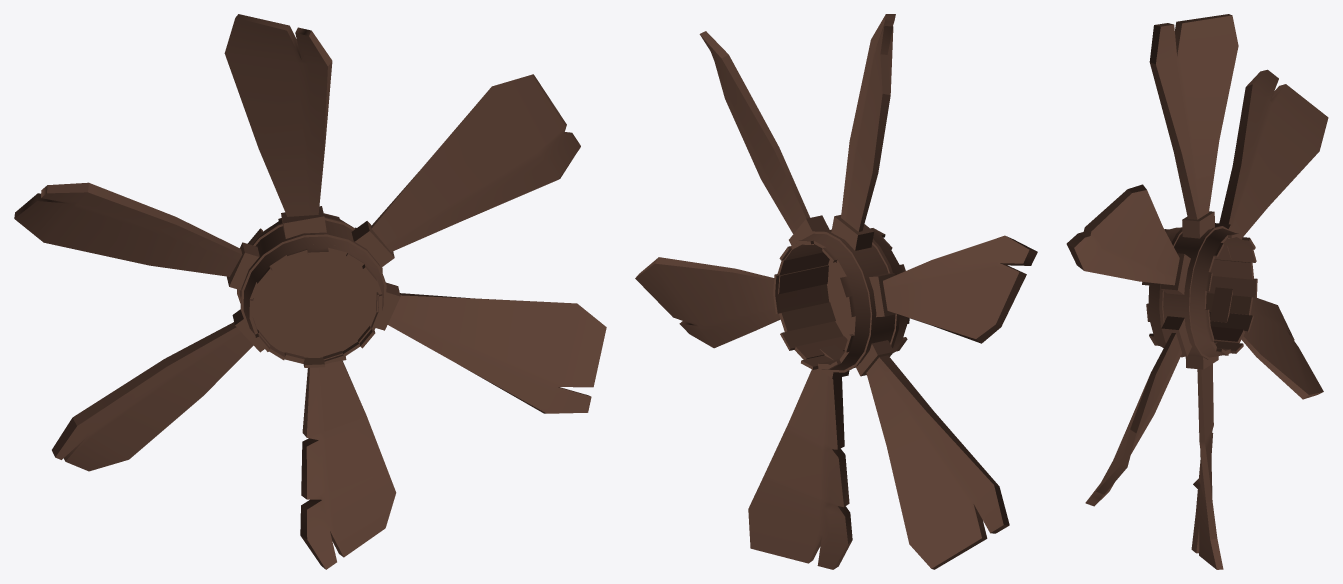
File: wieken molen segment 1.fbx
3 views of the same model, side by side, from view 1: azimuth 30°, elevation 25°; view 2: azimuth 150°, elevation 25°; view 3: azimuth 270°, elevation 25° (orthographic). The views are drawn at different scales.
Parts seen in each view (by area): view 1: propellor; view 2: propellor; view 3: propellor.
Part boxes in pixels (x1=…): propellor: x1=14, y1=14, x2=606, y2=569; propellor: x1=635, y1=14, x2=1037, y2=569; propellor: x1=1066, y1=14, x2=1328, y2=569.
Bounding box in the file's own units: 8.56 × 9.44 × 4.41.
